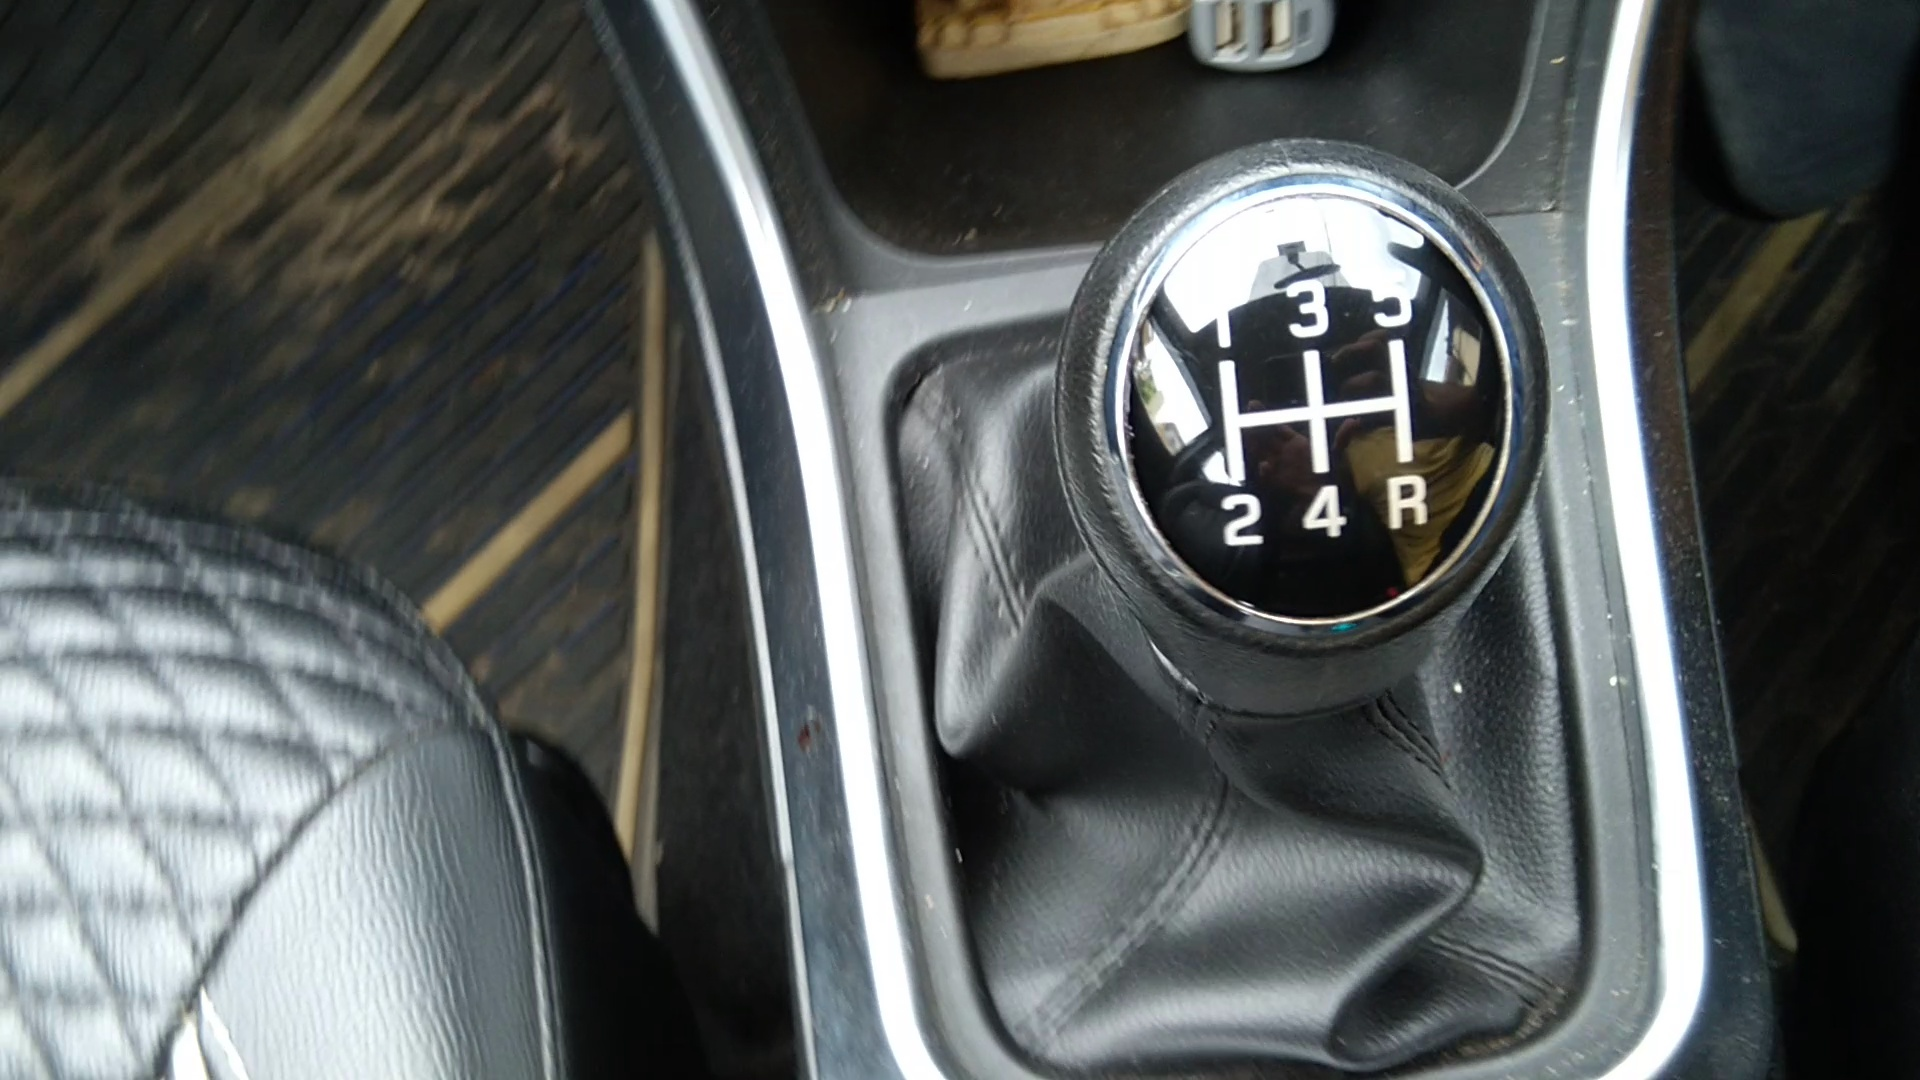manual_gear: (1040, 135, 1571, 732)
